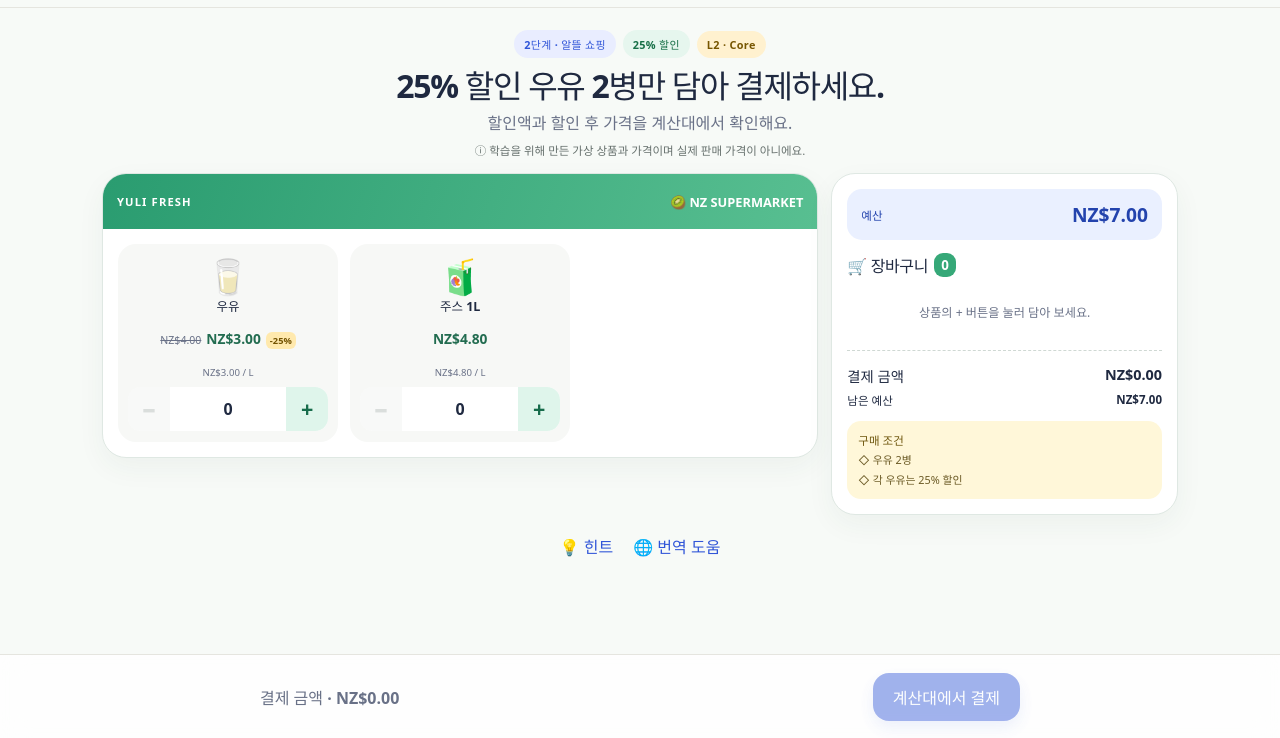
Scenario: ShoppingMission › applies a percentage discount, issues a receipt and stores the answer
The image size is (1280, 738).
What coordinates should you click on to do the following:
click the button named "우유 추가"
I would click on:
 (307, 409)
Its box is left=286, top=387, right=328, bottom=431.
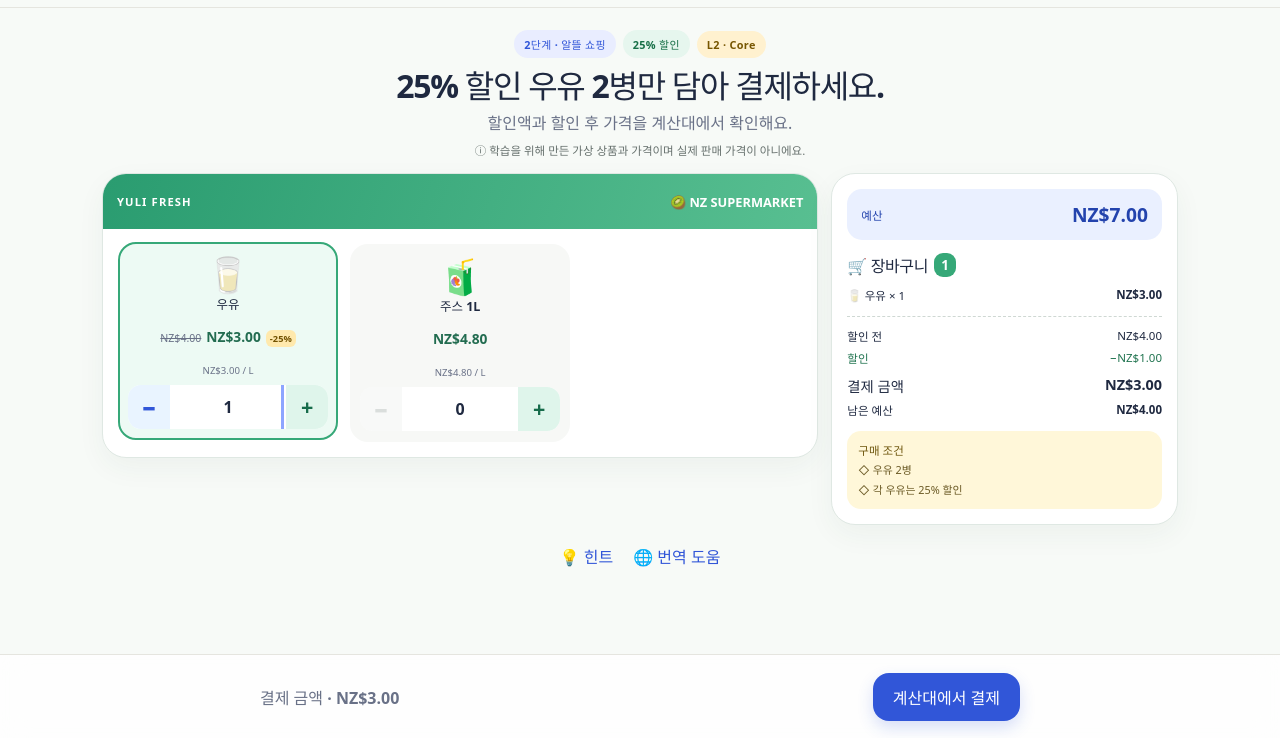
What coordinates should you click on to do the following:
click the button named "우유 추가"
I would click on:
 (307, 407)
Its box is left=286, top=385, right=328, bottom=429.
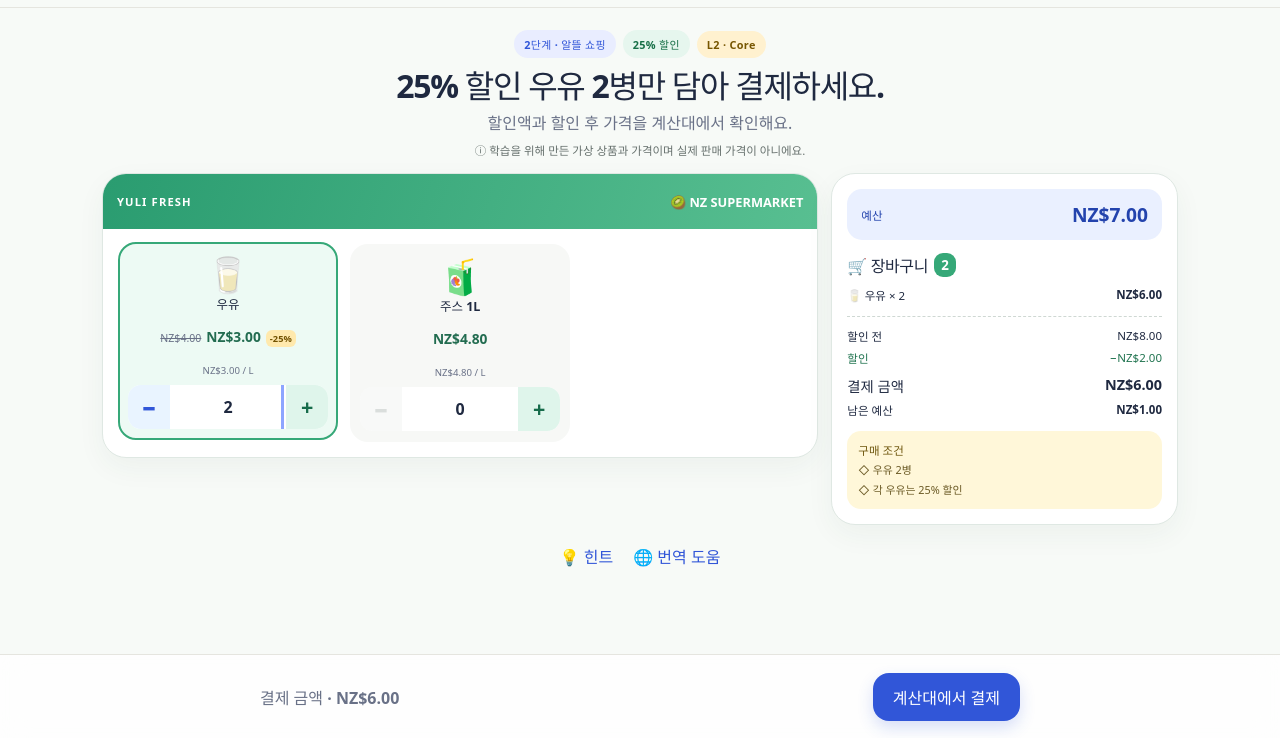
Expected: the text "−NZ$2.00" is shown, left=1110, top=350, right=1162, bottom=366
What coordinates should you click on to do the following:
click the button "계산대에서 결제"
I would click on:
 (946, 696)
Its box is left=873, top=672, right=1020, bottom=720.
(page scrolled)
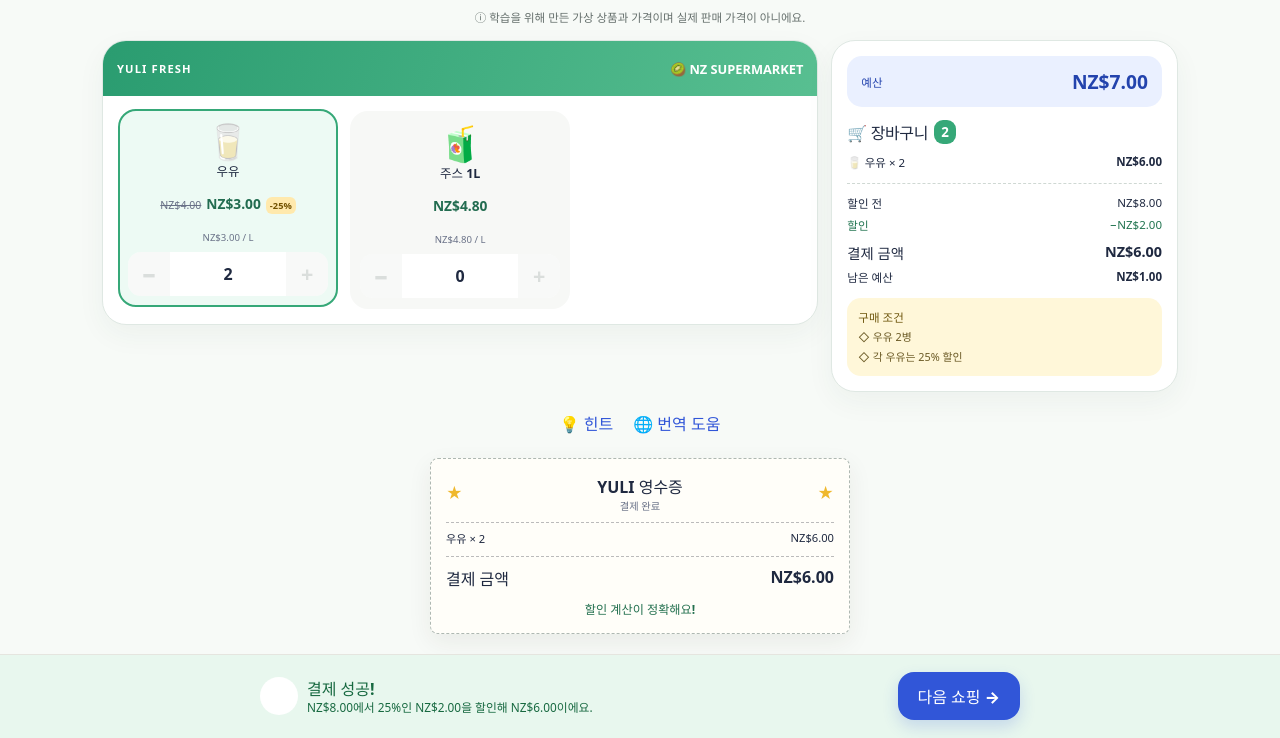
Expected: the text "결제 성공!" is shown, left=307, top=678, right=375, bottom=700
Expected: the element "YULI 영수증" is shown, left=430, top=458, right=850, bottom=634
